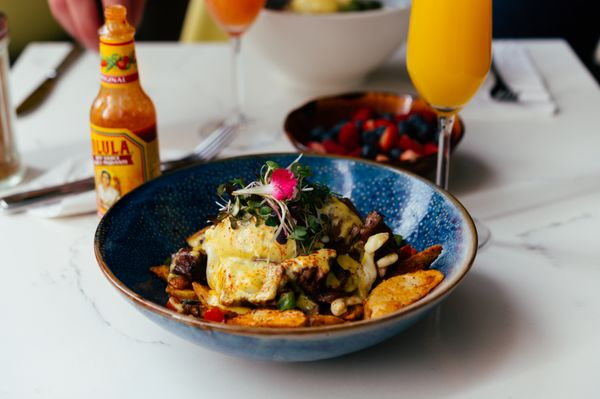sushi: (108, 153, 476, 359), (243, 2, 411, 95)
